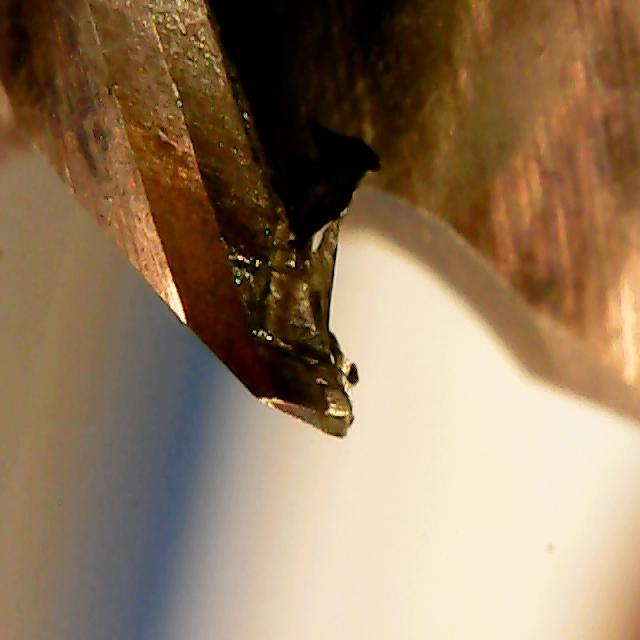Tool-wear-class-3: (151, 191, 374, 480)
